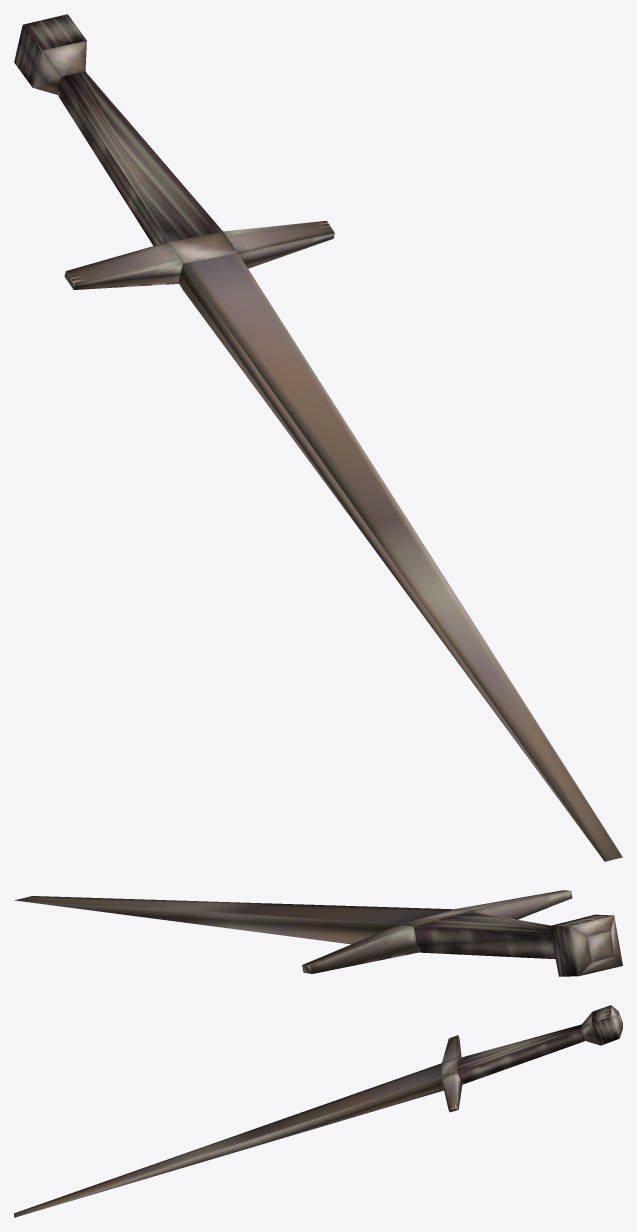
3 renders of one model, top to bottom at view 1: azimuth 30°, elevation 25°; view 2: azimuth 210°, elevation 25°; view 3: azimuth 270°, elevation 25°, orthographic. The views are drawn at different scales.
Parts seen in each view (by area): view 1: T1L5M004_21; view 2: T1L5M004_21; view 3: T1L5M004_21.
Part boxes in pixels (x1,y1,x2,y2): T1L5M004_21: (14, 14, 622, 861); T1L5M004_21: (15, 890, 622, 976); T1L5M004_21: (14, 1005, 622, 1217).
Bounding box in the file's own units: 0.3193 × 0.4795 × 1.27.
